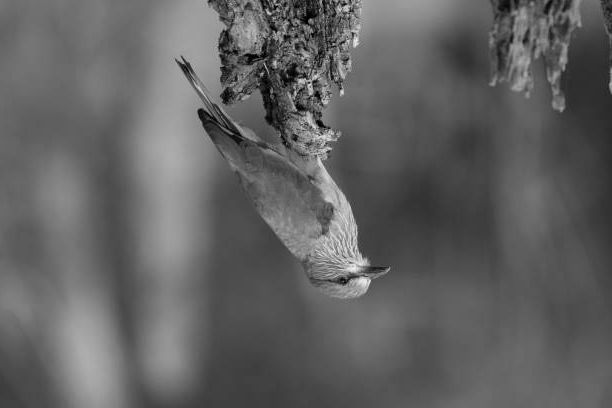Bird: (169, 46, 399, 303)
